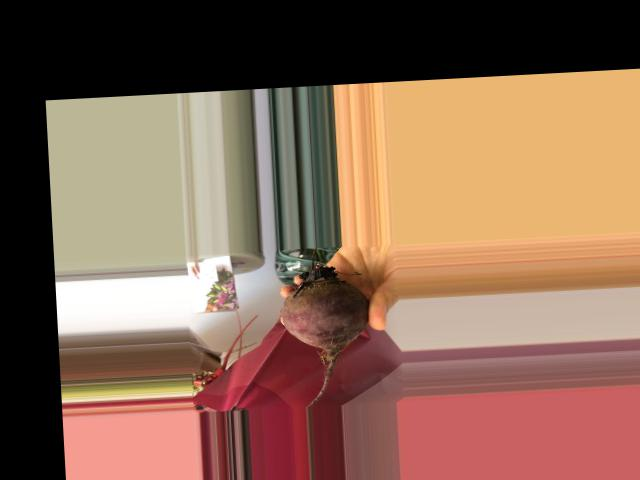beet: (277, 245, 373, 407)
